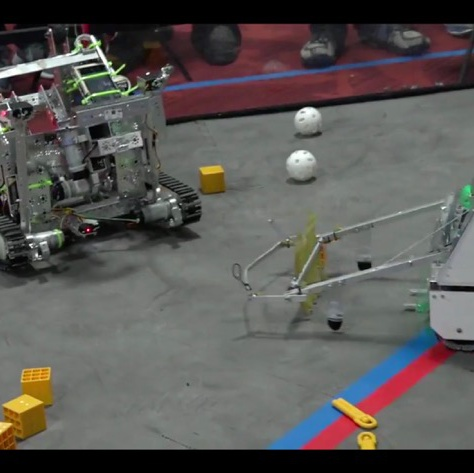robot: (0, 31, 205, 274), (226, 181, 474, 358)
